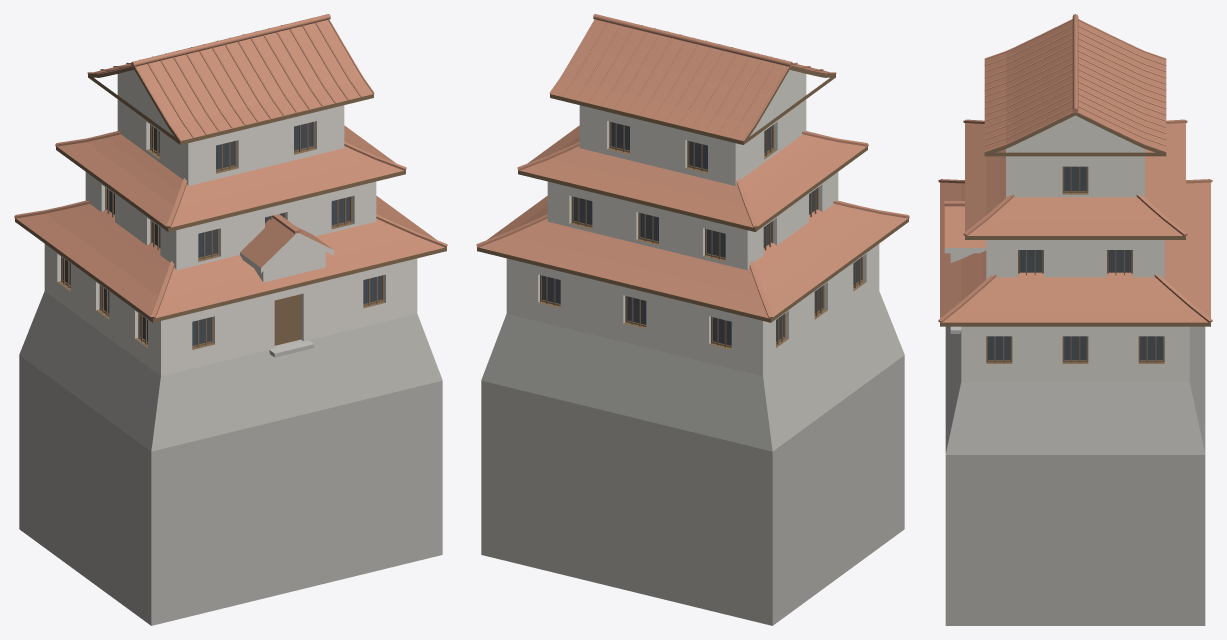
File: japanese_castle_3_s.glb
The picture shows the model from 3 angles, left to right: view 1: azimuth 30°, elevation 25°; view 2: azimuth 150°, elevation 25°; view 3: azimuth 270°, elevation 25°; orthographic projection.
Visible parts, largest first — view 1: japanese_castle_3_s; view 2: japanese_castle_3_s; view 3: japanese_castle_3_s.
Boxes of the visible parts, x1,y1,x2,y2 form: japanese_castle_3_s: [14, 14, 447, 625]; japanese_castle_3_s: [476, 14, 909, 625]; japanese_castle_3_s: [938, 14, 1212, 625].
Size of the model in its own units: 14.27 by 23.14 by 11.63.
